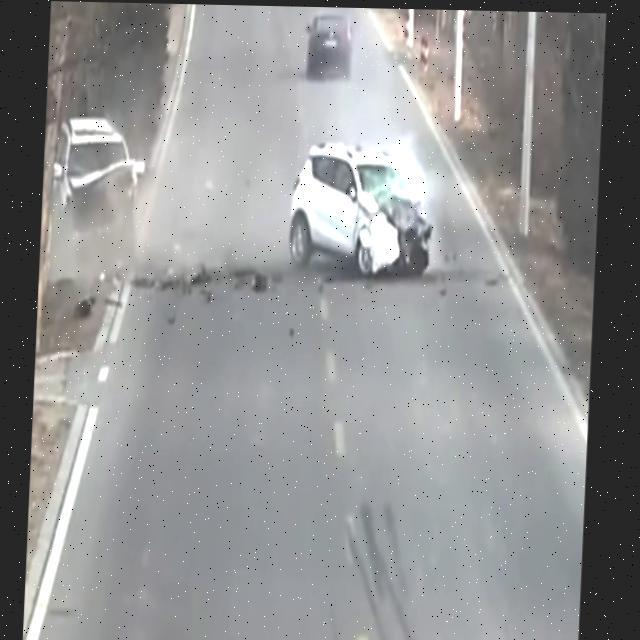multiple_accident: (277, 133, 460, 291), (53, 119, 167, 287)
normal: (294, 14, 387, 90)
